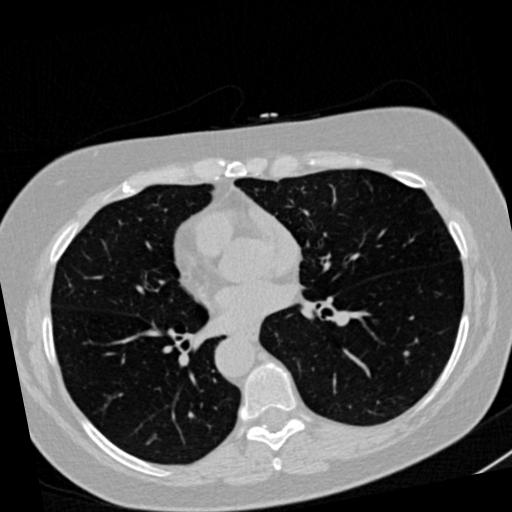nodule: (402, 347, 415, 360)
